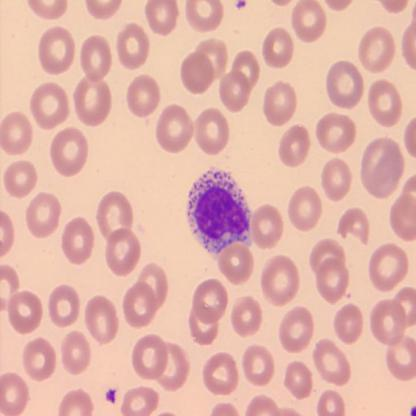Metamyelocyte: (183, 164, 256, 260)
